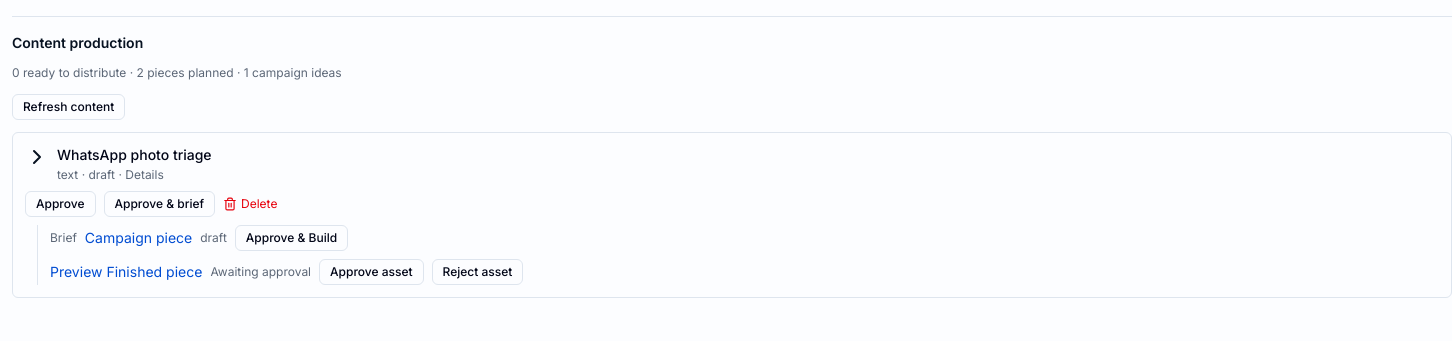
Scenario: only marks approved assets ready and reuses the normal review RPC
Expected: the text "Awaiting approval" is shown, [210,264,311,280]
Expected: the text "0 ready to distribute · 2 pieces planned · 1 campaign ideas" is shown, [12,65,342,80]
Click the button "Approve asset" at [371, 272], box [319,259,424,285]
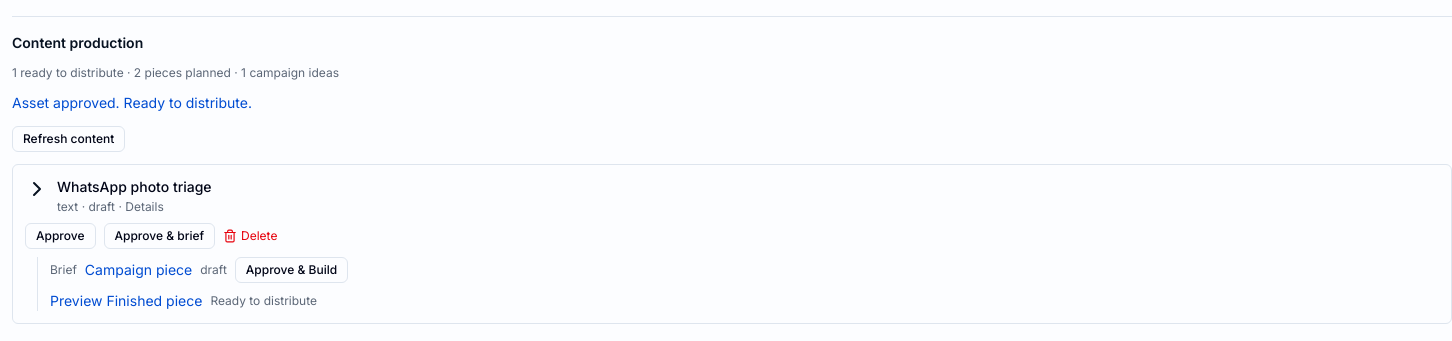
Now the text "Ready to distribute" is shown, box [210,293,317,309]
